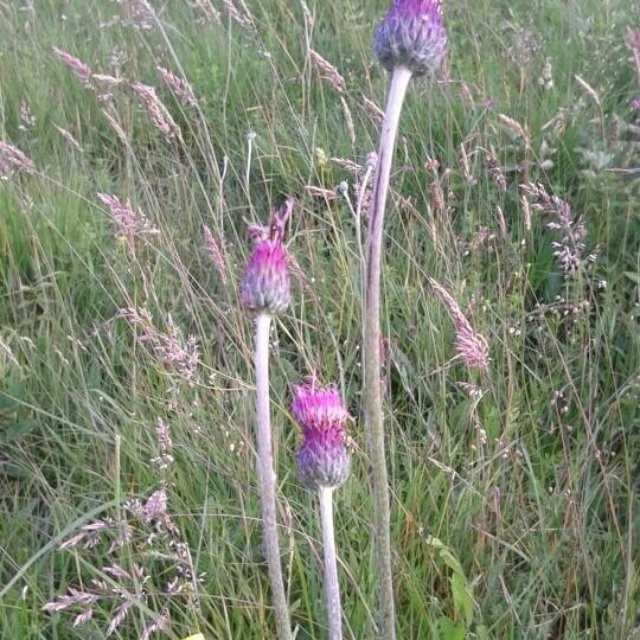obstacle: (216, 126, 369, 622), (345, 13, 429, 619)
